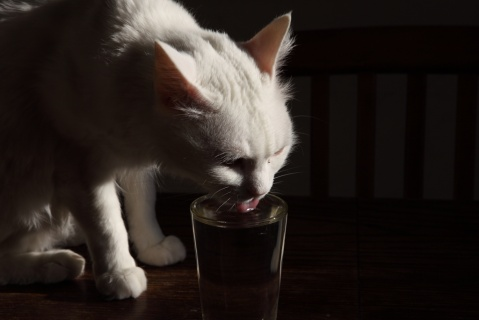Cat: (0, 0, 300, 307)
